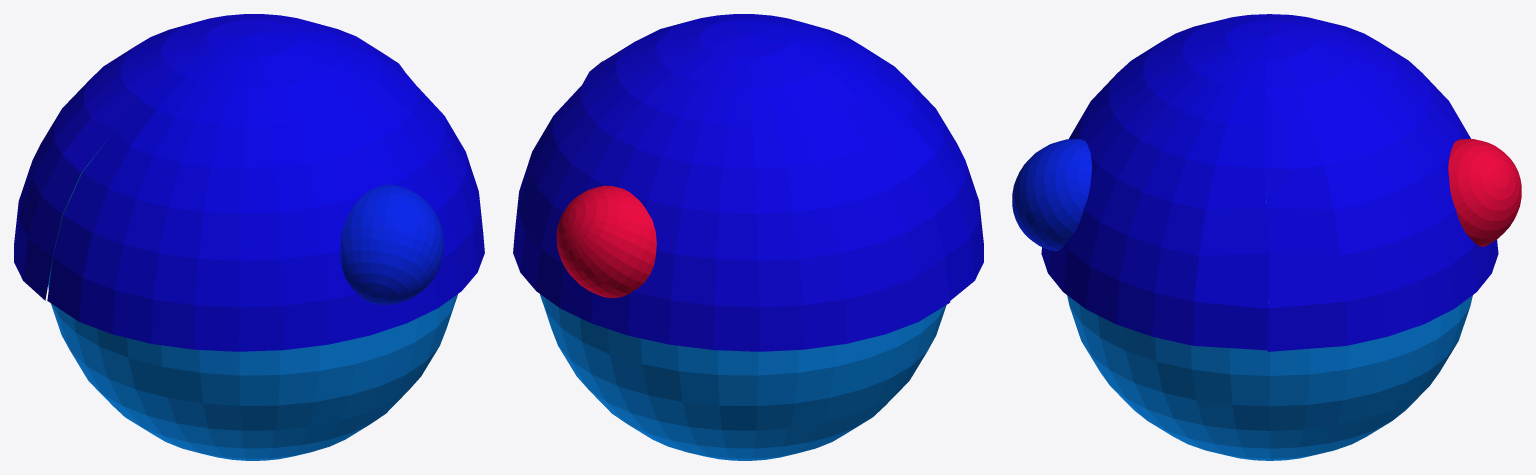
The model's file is magnage.fbx.
3 renders of one model, left to right at view 1: azimuth 30°, elevation 25°; view 2: azimuth 150°, elevation 25°; view 3: azimuth 270°, elevation 25°, orthographic.
Parts seen in each view (by area): view 1: Sphere.003, Sphere, Sphere.004, Sphere.002; view 2: Sphere.004, Sphere, Sphere.003, Sphere.001; view 3: Sphere.004, Sphere.003, Sphere, Sphere.002, Sphere.001.
Part boxes in pixels (x1,y1,x2,y2): Sphere.003: (47, 29, 484, 351); Sphere: (48, 138, 457, 460); Sphere.004: (14, 14, 403, 300); Sphere.002: (340, 184, 443, 304); Sphere.004: (513, 27, 950, 351); Sphere: (540, 294, 946, 460); Sphere.003: (637, 14, 983, 300); Sphere.001: (556, 185, 656, 298); Sphere.004: (1264, 14, 1498, 351); Sphere.003: (1041, 14, 1269, 350); Sphere: (1067, 194, 1472, 460); Sphere.002: (1012, 139, 1091, 251); Sphere.001: (1448, 139, 1521, 246).
Bounding box in the file's own units: 226 × 215 × 245.
